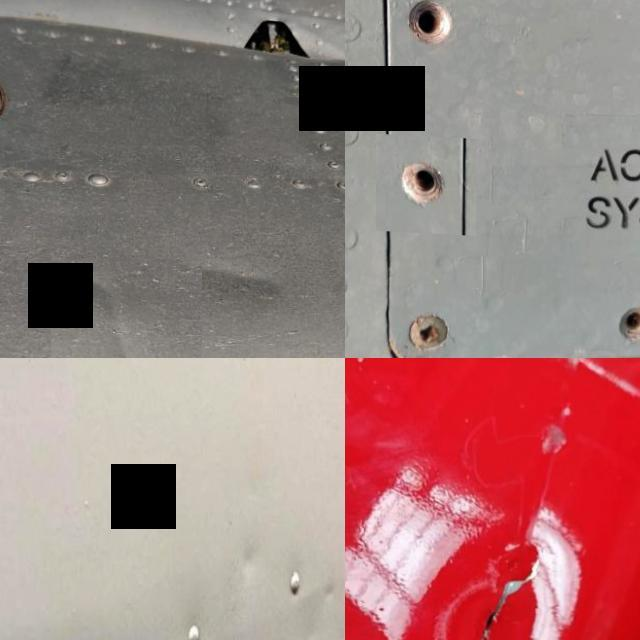Crack: (429, 488, 576, 640)
Dent: (158, 200, 320, 344), (50, 257, 202, 358), (237, 536, 265, 578), (322, 571, 338, 598)
Missing_Fastener: (376, 131, 476, 232), (381, 0, 476, 65), (594, 267, 640, 358)
